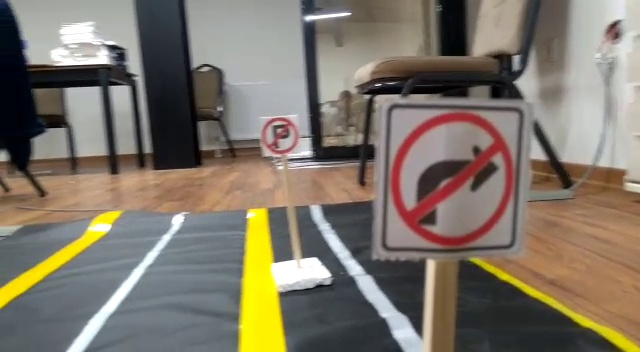park_yapilmaz: (256, 116, 300, 156)
saga_donulmez: (386, 103, 517, 248)
